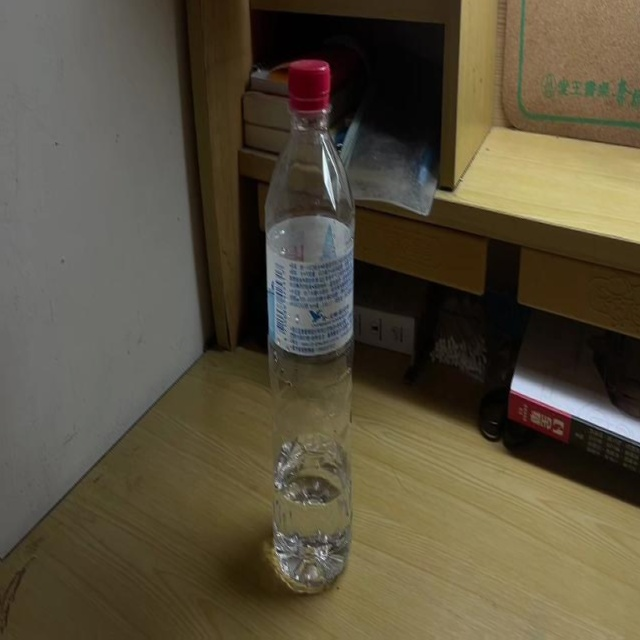Water: (265, 60, 350, 594)
